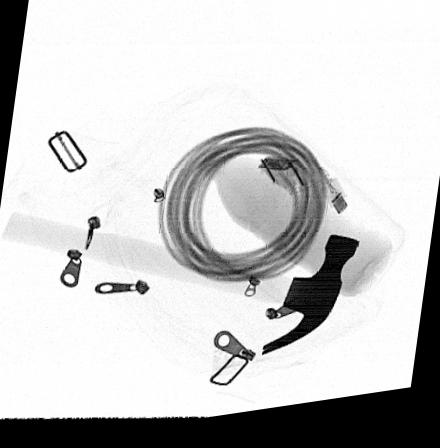Hammer: (1, 213, 360, 365)
